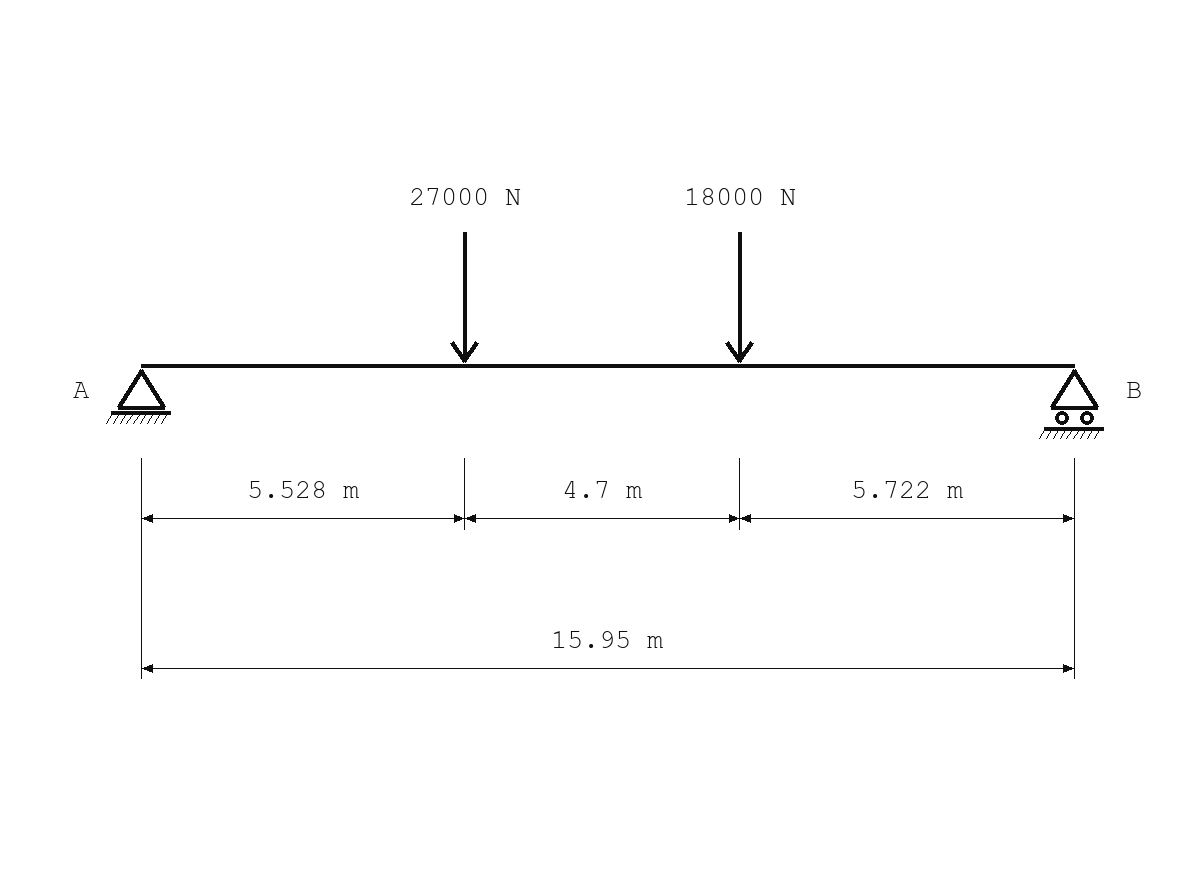pin_support: (106, 369, 171, 424)
point_load: (450, 232, 479, 363), (725, 232, 754, 363)
roller_support: (1039, 369, 1104, 439)
